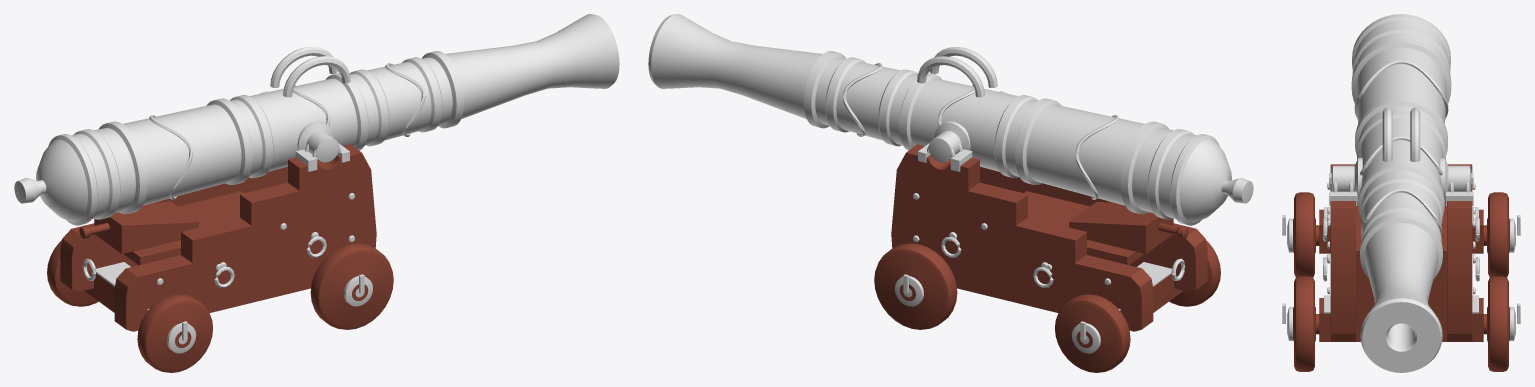
The model's file is SM_MOD_CANNON_BRONZE_OTTOMAN_A.fbx.
3 renders of one model, left to right at view 1: azimuth 30°, elevation 25°; view 2: azimuth 150°, elevation 25°; view 3: azimuth 270°, elevation 25°, orthographic. The views are drawn at different scales.
Parts seen in each view (by area): view 1: MOD_CANNON_BRONZE_OTTOMAN_A_BARREL, MOD_CANNON_BRONZE_OTTOMAN_A; view 2: MOD_CANNON_BRONZE_OTTOMAN_A_BARREL, MOD_CANNON_BRONZE_OTTOMAN_A; view 3: MOD_CANNON_BRONZE_OTTOMAN_A_BARREL, MOD_CANNON_BRONZE_OTTOMAN_A.
Part boxes in pixels (x1,y1,x2,y2): MOD_CANNON_BRONZE_OTTOMAN_A_BARREL: [14, 14, 619, 225]; MOD_CANNON_BRONZE_OTTOMAN_A: [47, 143, 393, 372]; MOD_CANNON_BRONZE_OTTOMAN_A_BARREL: [648, 14, 1253, 225]; MOD_CANNON_BRONZE_OTTOMAN_A: [874, 143, 1220, 372]; MOD_CANNON_BRONZE_OTTOMAN_A_BARREL: [1331, 14, 1471, 372]; MOD_CANNON_BRONZE_OTTOMAN_A: [1282, 164, 1520, 371].
Size of what is drawn, in the model's own units: 3.16 by 1.25 by 1.05.
